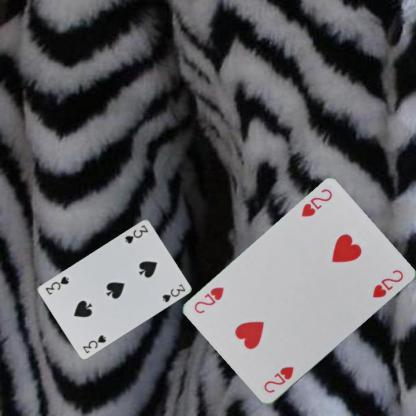2h: (299, 186, 334, 219), (261, 364, 295, 395)
3s: (80, 332, 107, 354), (123, 222, 149, 244)
